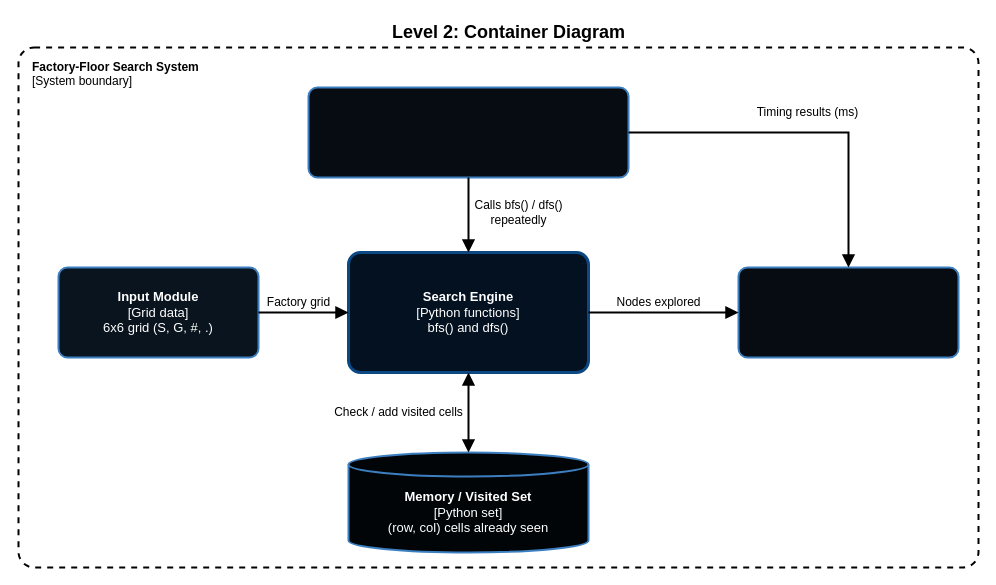
The diagram is 996 pixels wide and 585 high, and some of its shapes have lost their labels. The shapes that lost their labels are listed below. From the top down, each one's box as (x1, y1, x2, y2) in pixels, then its label:
(307, 86, 629, 178): Benchmark / Timing Module [Timing loops] perf_counter(), 3 runs x 10,000
(737, 266, 959, 358): Output Module [print statements] nodes explored + timing
